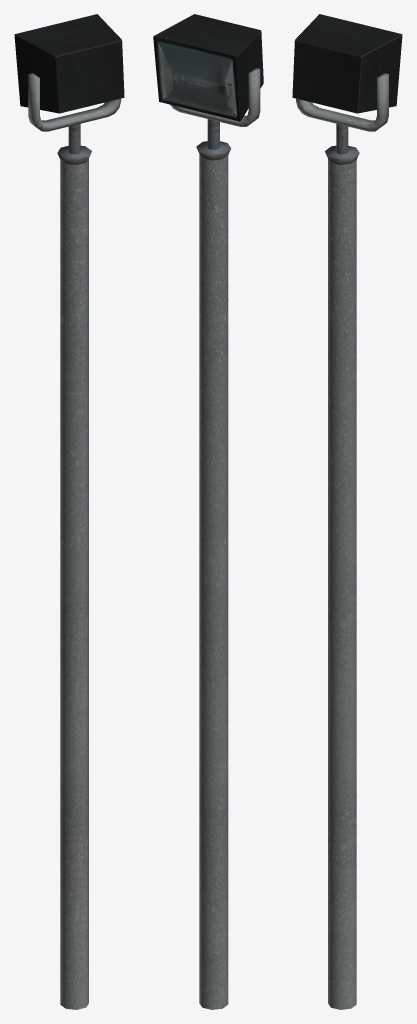
The model's file is Light-03.fbx.
The picture shows the model from 3 angles, left to right: view 1: azimuth 30°, elevation 25°; view 2: azimuth 150°, elevation 25°; view 3: azimuth 330°, elevation 25°; orthographic projection.
Parts seen in each view (by area): view 1: Light-01; view 2: Light-01; view 3: Light-01.
Part boxes in pixels (<box>): Light-01: <box>14,14,124,1009</box>; Light-01: <box>153,14,263,1009</box>; Light-01: <box>292,14,402,1009</box>.
Bounding box in the file's own units: 51.17 × 550 × 37.23.
